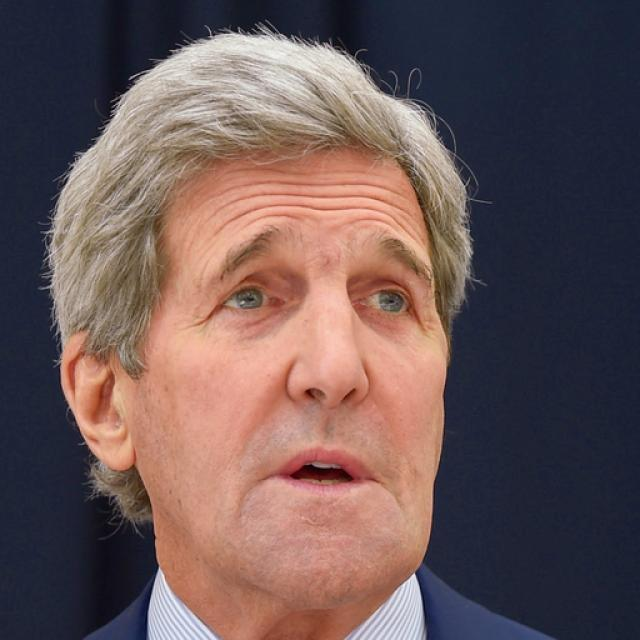sad: (132, 142, 448, 606)
